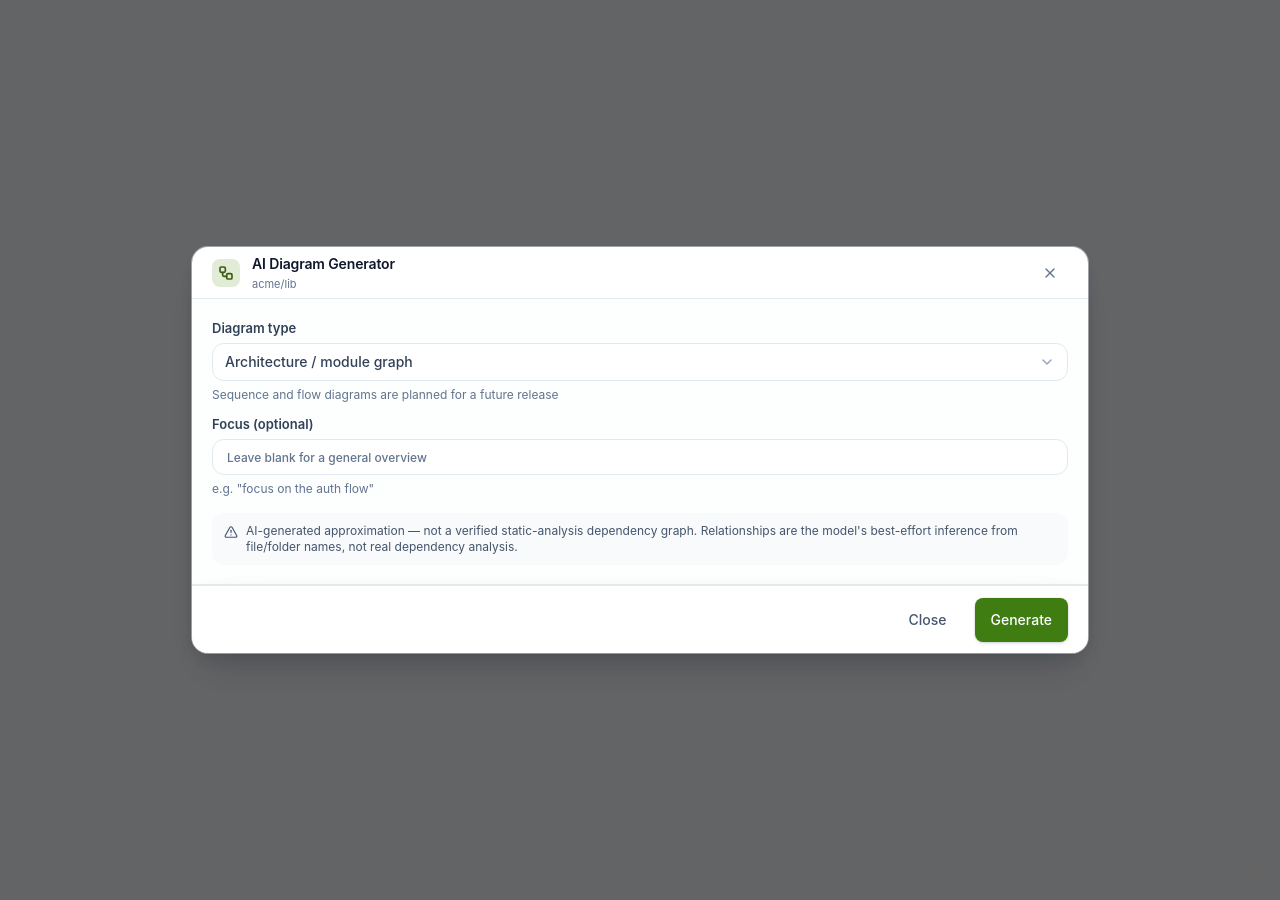
Scenario: DiagramGenerator — generate + render › shows a truncated-listing badge when the server reports a capped tree
Click the button "Generate" at (1021,620), box [974,598,1068,642]
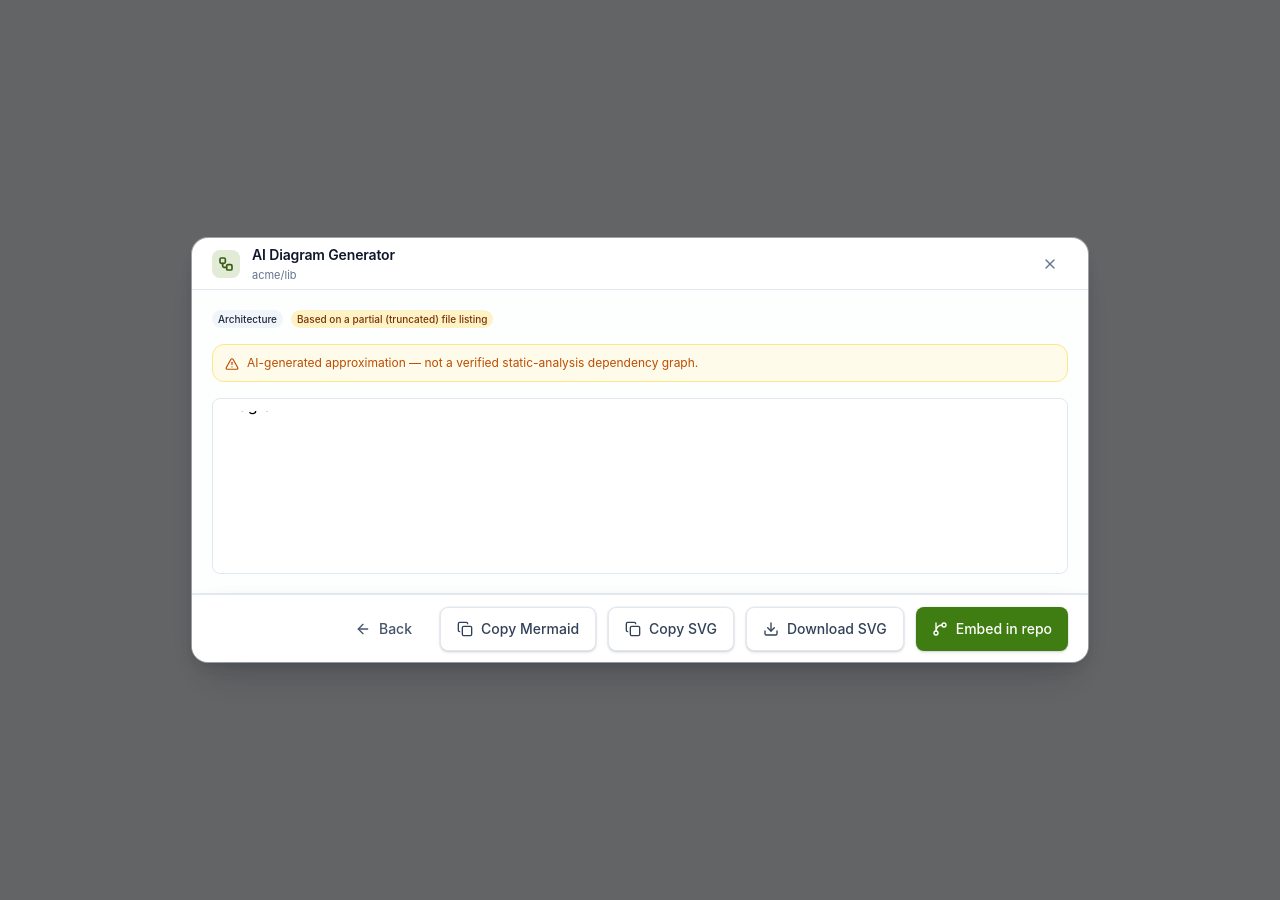
Now the text "Based on a partial (truncated) file listing" is shown, box [291,310,494,328]
